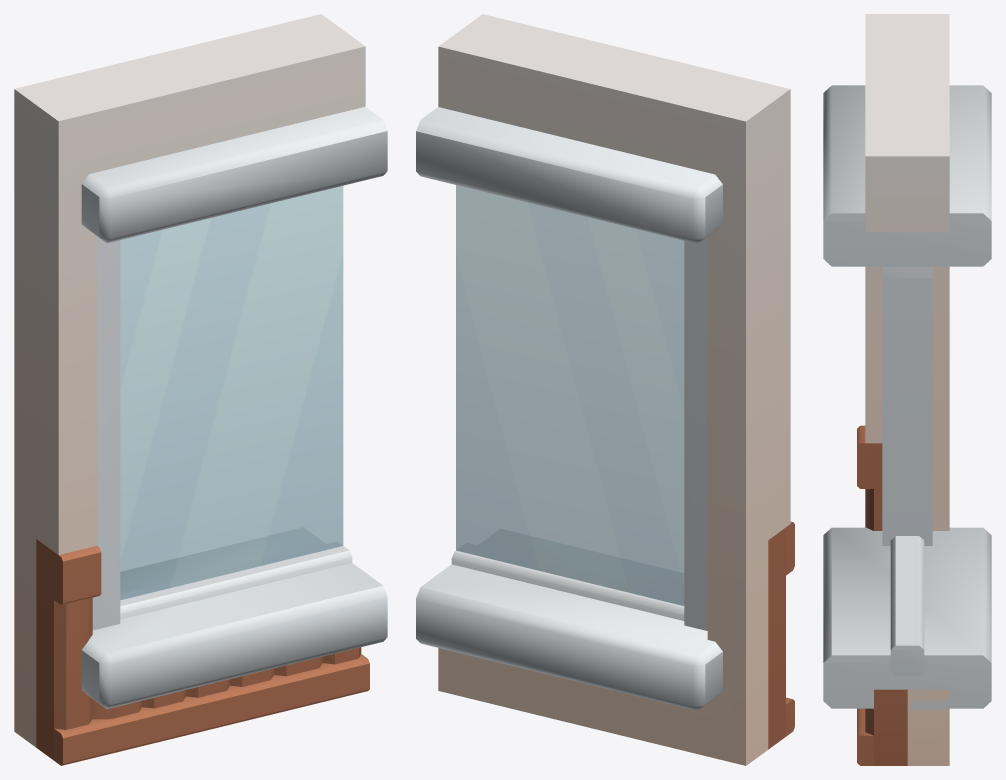
The model's file is wall-panelled-bakery-window-full-left.glb.
3 renders of one model, left to right at view 1: azimuth 30°, elevation 25°; view 2: azimuth 150°, elevation 25°; view 3: azimuth 270°, elevation 25°, orthographic. The views are drawn at different scales.
Visible parts, largest first — view 1: wall_panelled_bakery_window_full_left; view 2: wall_panelled_bakery_window_full_left; view 3: wall_panelled_bakery_window_full_left.
Boxes of the visible parts, left/top/right/bottom form: wall_panelled_bakery_window_full_left: left=14, top=14, right=387, bottom=765; wall_panelled_bakery_window_full_left: left=416, top=14, right=794, bottom=765; wall_panelled_bakery_window_full_left: left=823, top=14, right=991, bottom=765.
Size of the model in its own units: 2 by 4 by 1.
Materials: 2 (2 with a texture image).
